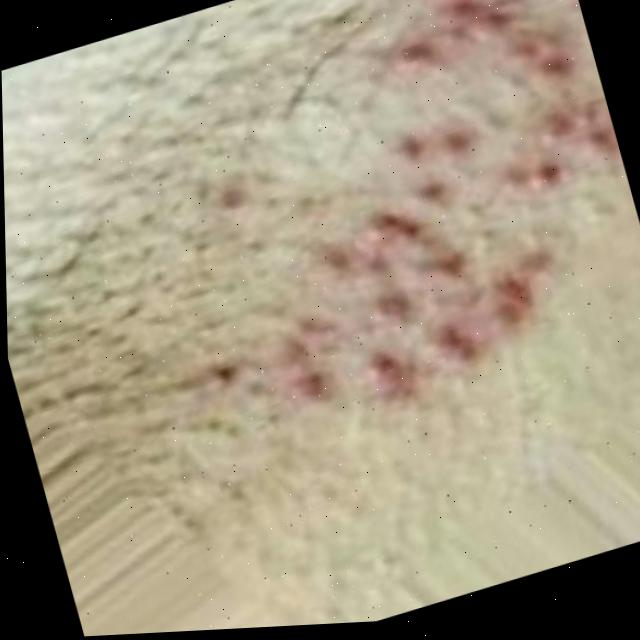Shingles: (159, 0, 640, 441)
